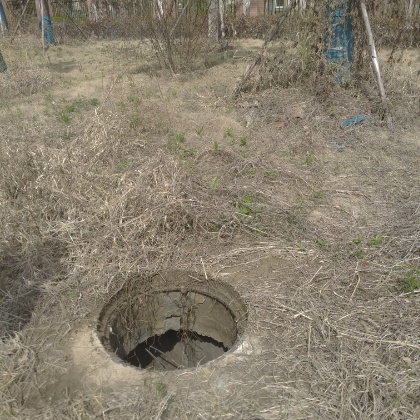lose: (97, 270, 249, 372)
